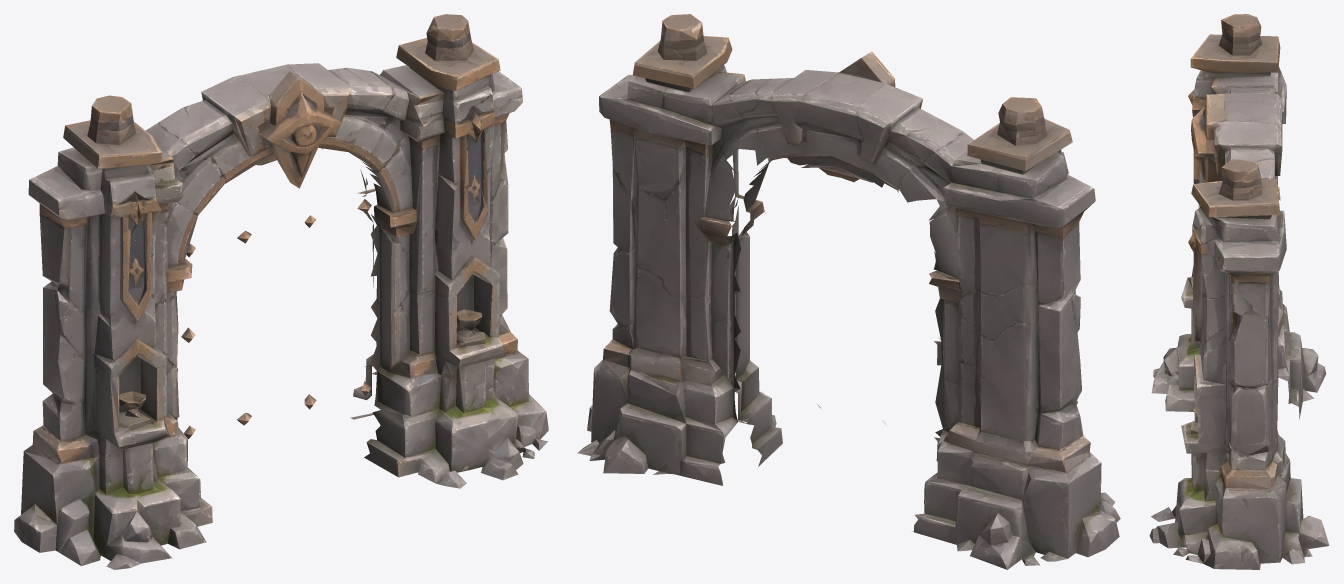
File: hub_sealed_gate.glb
The picture shows the model from 3 angles, left to right: view 1: azimuth 30°, elevation 25°; view 2: azimuth 150°, elevation 25°; view 3: azimuth 270°, elevation 25°; orthographic projection. The views are drawn at different scales.
Visible parts, largest first — view 1: body; view 2: body; view 3: body.
Boxes of the visible parts, x1,y1,x2,y2 form: body: (14,14,548,569); body: (577,14,1120,569); body: (1149,14,1329,569).
Size of the model in its own units: 6.37 by 5.04 by 2.22.
Materials: 1 (1 with a texture image).
